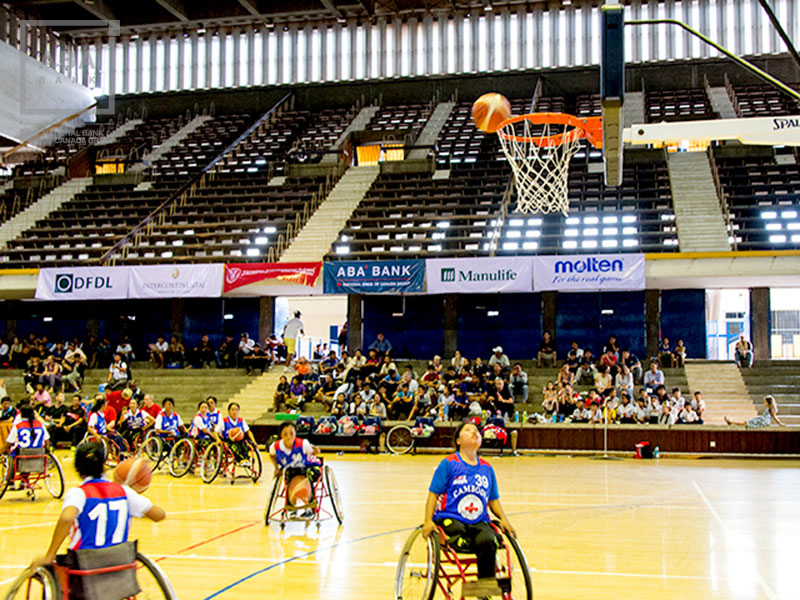ball: (110, 456, 159, 496), (469, 92, 513, 131)
basket: (494, 112, 598, 208)
player: (398, 423, 537, 600), (26, 447, 167, 600)
